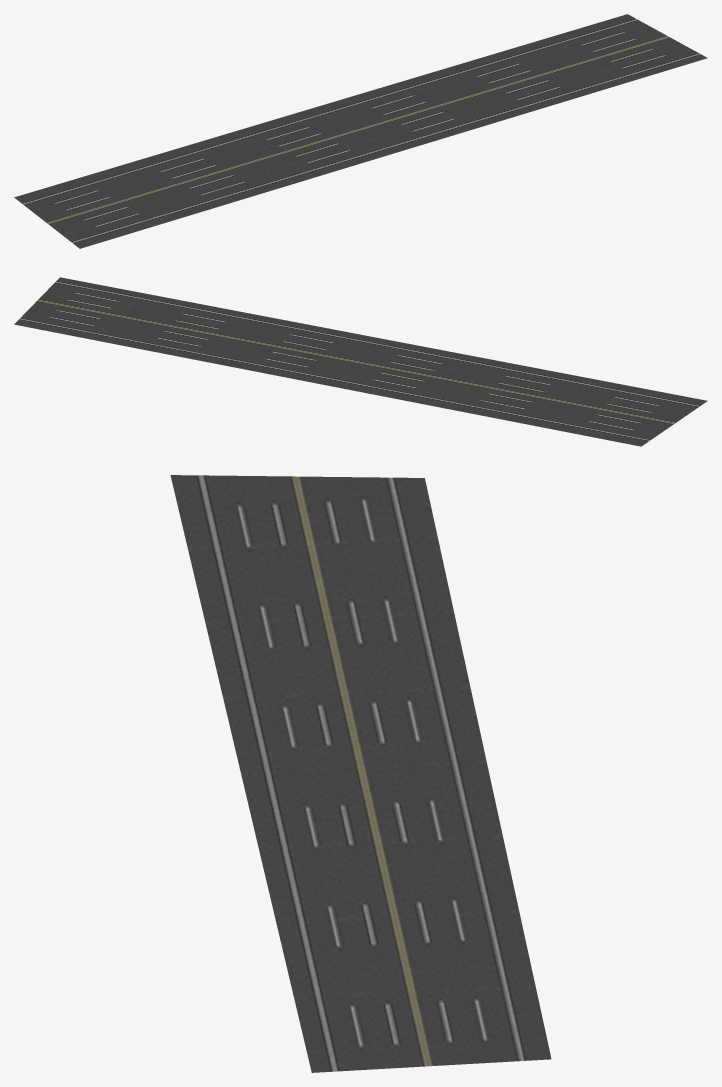
The model's file is road33.FBX.
3 views of the same model, one above another, from view 1: azimuth 30°, elevation 25°; view 2: azimuth 150°, elevation 25°; view 3: azimuth 270°, elevation 25° (orthographic). The views are drawn at different scales.
Parts seen in each view (by area): view 1: road33; view 2: road33; view 3: road33.
Boxes of the visible parts, x1,y1,x2,y2 form: road33: [14, 14, 707, 248]; road33: [14, 277, 707, 446]; road33: [170, 475, 551, 1072].
Size of the model in its own units: 3906 by 7.15e-07 by 1052.
1 material, 1 textured.
